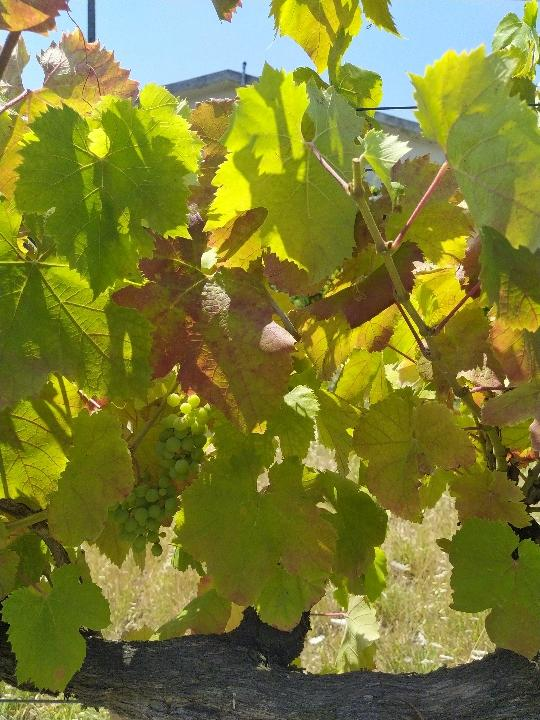grape: (110, 388, 213, 561)
